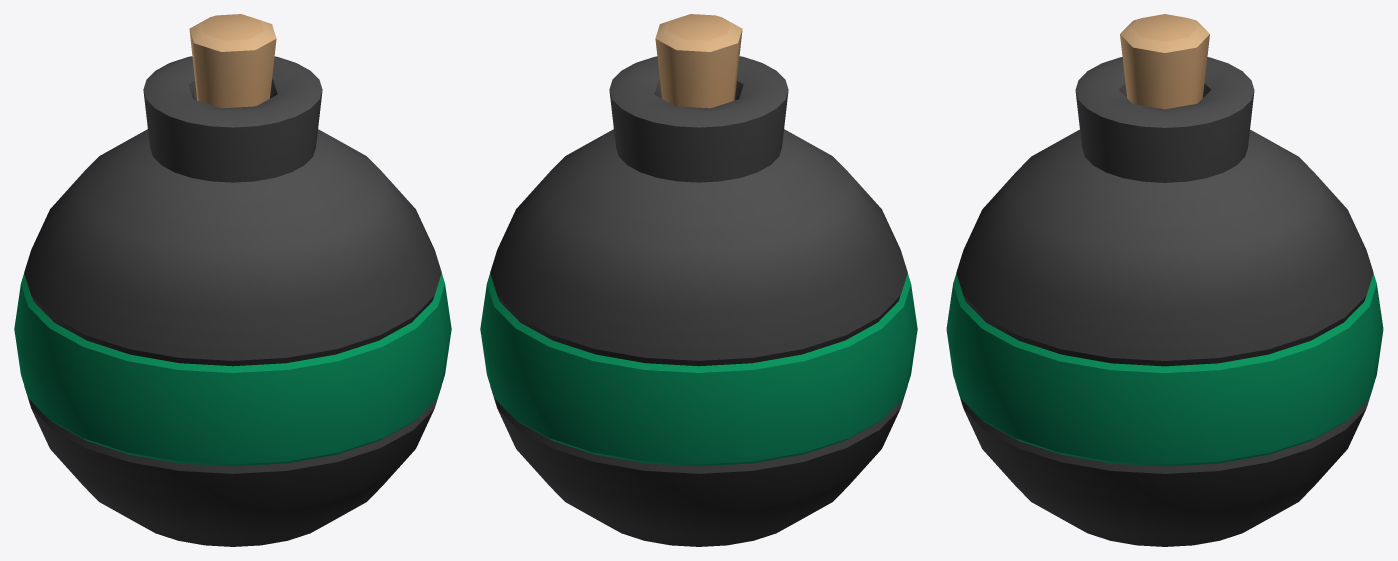
Rendered from bomb_B_green.glb.
The picture shows the model from 3 angles, left to right: view 1: azimuth 30°, elevation 25°; view 2: azimuth 150°, elevation 25°; view 3: azimuth 270°, elevation 25°; orthographic projection.
Parts seen in each view (by area): view 1: bomb_B_green; view 2: bomb_B_green; view 3: bomb_B_green.
Boxes of the visible parts, box(x1,y1,x2,y2) form: bomb_B_green: box(14, 14, 451, 546); bomb_B_green: box(480, 14, 917, 546); bomb_B_green: box(946, 14, 1383, 546).
Bounding box in the file's own units: 0.8 × 1.01 × 0.8.
Materials: 1 (1 with a texture image).
